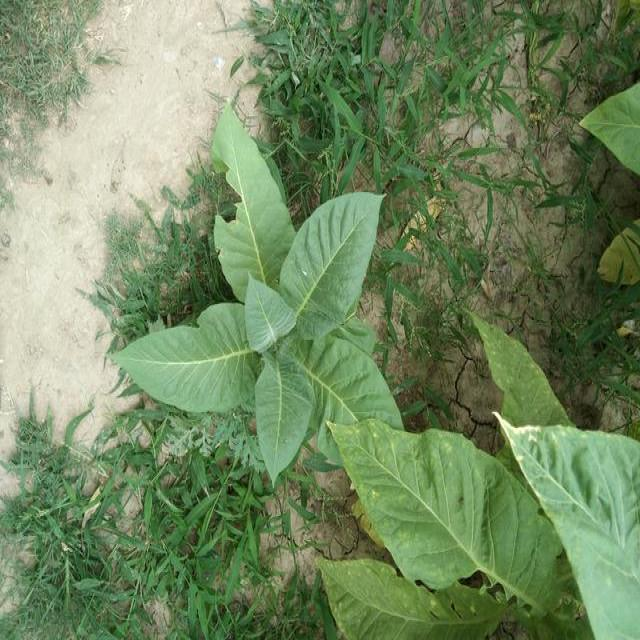crop: (106, 104, 408, 477)
